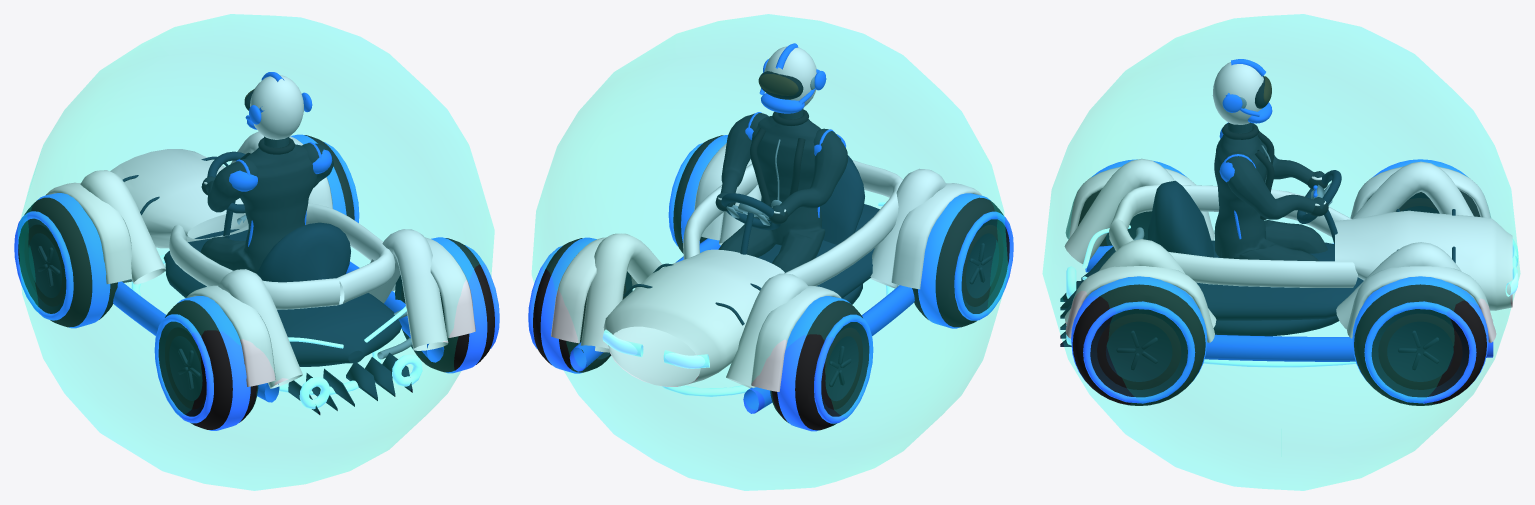
Rendered from terra.glb.
3 views of the same model, side by side, from view 1: azimuth 30°, elevation 25°; view 2: azimuth 150°, elevation 25°; view 3: azimuth 270°, elevation 25° (orthographic).
Visible parts, largest first — view 1: terra:aegis-shield, terra:coachwork-batch.001, terra:coachwork-batch, terra:torso, terra:rounded-wheel-shell.002, terra:rounded-wheel-shell, terra:helmet-shell, terra:translucent-tire-band.002, terra:translucent-tire-band, terra:recessed-colored-hub.002, terra:recessed-colored-hub, terra:rounded-wheel-shell.003 (+12 smaller); view 2: terra:aegis-shield, terra:coachwork-batch.001, terra:torso, terra:coachwork-batch, terra:rounded-wheel-shell, terra:rounded-wheel-shell.002, terra:arm-l-mesh, terra:translucent-tire-band, terra:translucent-tire-band.002, terra:recessed-colored-hub, terra:recessed-colored-hub.002, terra:translucent-tire-band.001 (+18 smaller); view 3: terra:aegis-shield, terra:coachwork-batch.001, terra:coachwork-batch, terra:torso, terra:rounded-wheel-shell.001, terra:rounded-wheel-shell.003, terra:recessed-colored-hub.001, terra:recessed-colored-hub.003, terra:terra-structural-rail.001, terra:arm-r-mesh, terra:wheel-light-ring.003, terra:wheel-light-ring.001 (+6 smaller).
Part boxes in pixels (left/top/right/bottom): terra:aegis-shield: left=18, top=14, right=494, bottom=490; terra:coachwork-batch.001: left=46, top=131, right=475, bottom=388; terra:coachwork-batch: left=122, top=156, right=412, bottom=414; terra:torso: left=200, top=136, right=317, bottom=273; terra:rounded-wheel-shell.002: left=165, top=300, right=258, bottom=429; terra:rounded-wheel-shell: left=24, top=197, right=117, bottom=327; terra:helmet-shell: left=250, top=75, right=304, bottom=139; terra:translucent-tire-band.002: left=177, top=296, right=250, bottom=430; terra:translucent-tire-band: left=37, top=193, right=110, bottom=328; terra:recessed-colored-hub.002: left=158, top=321, right=206, bottom=416; terra:recessed-colored-hub: left=18, top=218, right=66, bottom=313; terra:rounded-wheel-shell.003: left=401, top=238, right=494, bottom=372; terra:aegis-shield: left=532, top=14, right=1008, bottom=490; terra:coachwork-batch.001: left=551, top=143, right=981, bottom=391; terra:torso: left=718, top=108, right=825, bottom=272; terra:coachwork-batch: left=623, top=155, right=879, bottom=325; terra:rounded-wheel-shell: left=770, top=300, right=862, bottom=430; terra:rounded-wheel-shell.002: left=912, top=197, right=1003, bottom=327; terra:arm-l-mesh: left=772, top=128, right=847, bottom=216; terra:translucent-tire-band: left=777, top=296, right=850, bottom=431; terra:translucent-tire-band.002: left=918, top=193, right=990, bottom=328; terra:recessed-colored-hub: left=821, top=322, right=869, bottom=416; terra:recessed-colored-hub.002: left=961, top=219, right=1009, bottom=313; terra:translucent-tire-band.001: left=540, top=237, right=596, bottom=373; terra:aegis-shield: left=1042, top=14, right=1520, bottom=490; terra:coachwork-batch.001: left=1064, top=158, right=1512, bottom=342; terra:coachwork-batch: left=1060, top=180, right=1455, bottom=346; terra:torso: left=1214, top=122, right=1327, bottom=261; terra:rounded-wheel-shell.001: left=1354, top=284, right=1486, bottom=405; terra:rounded-wheel-shell.003: left=1072, top=284, right=1205, bottom=405; terra:recessed-colored-hub.001: left=1371, top=309, right=1469, bottom=397; terra:recessed-colored-hub.003: left=1090, top=309, right=1187, bottom=397; terra:terra-structural-rail.001: left=1204, top=334, right=1493, bottom=361; terra:arm-r-mesh: left=1223, top=151, right=1324, bottom=219; terra:wheel-light-ring.003: left=1083, top=301, right=1195, bottom=403; terra:wheel-light-ring.001: left=1364, top=301, right=1476, bottom=403.
Size of the model in its own units: 4.3 by 4.3 by 4.3.
